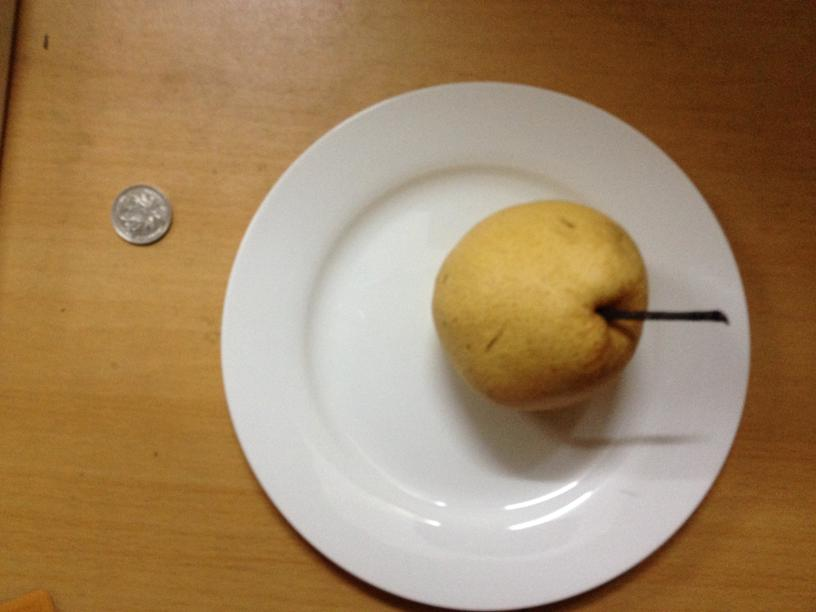coin: (107, 183, 174, 245)
pear: (430, 189, 653, 411)
